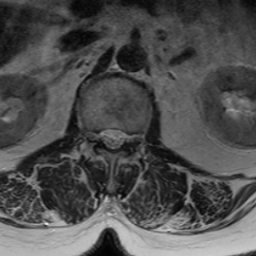CCS_normal: (107, 119, 116, 156)
LFS_normal: (128, 126, 136, 150)
LLS_normal: (116, 122, 126, 153)
RFS_normal: (91, 123, 99, 150)
RLS_normal: (99, 121, 107, 149)
